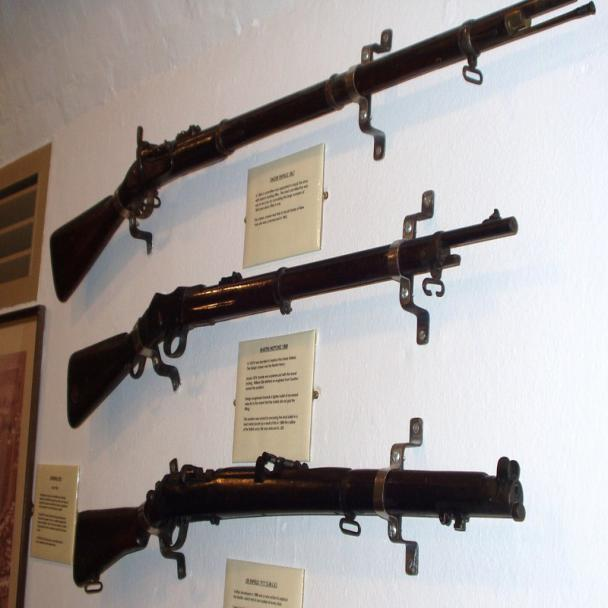Gun: (50, 5, 608, 215), (43, 207, 543, 410), (57, 419, 544, 607)
